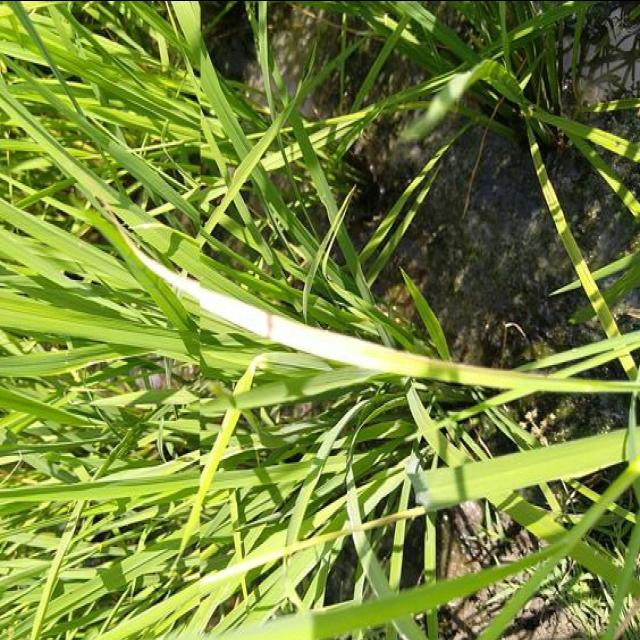Leaf Blight: (113, 215, 549, 387)
